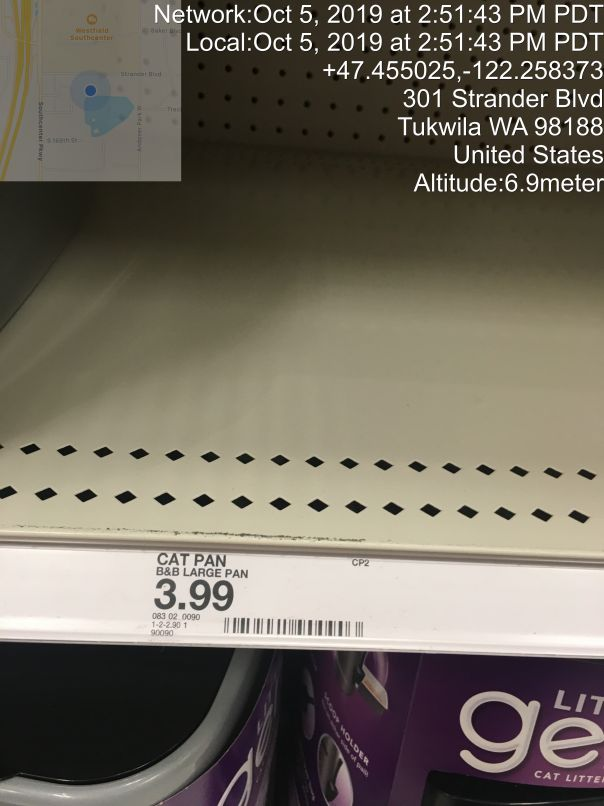Label: (152, 545, 385, 648)
Location: (397, 83, 604, 173)
Time: (145, 1, 604, 58)
Void: (69, 87, 545, 495)
